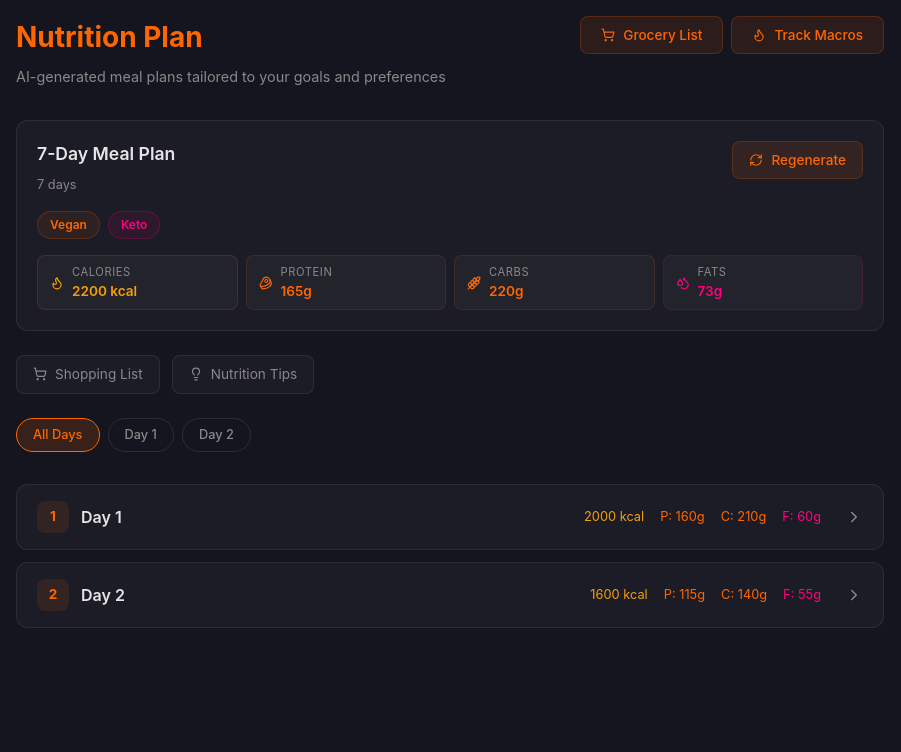
Test case: NutritionPage › toggles shopping list panel
// Click shopping list button
Click the button "Shopping List". click: (88, 374)
box: left=16, top=355, right=160, bottom=394
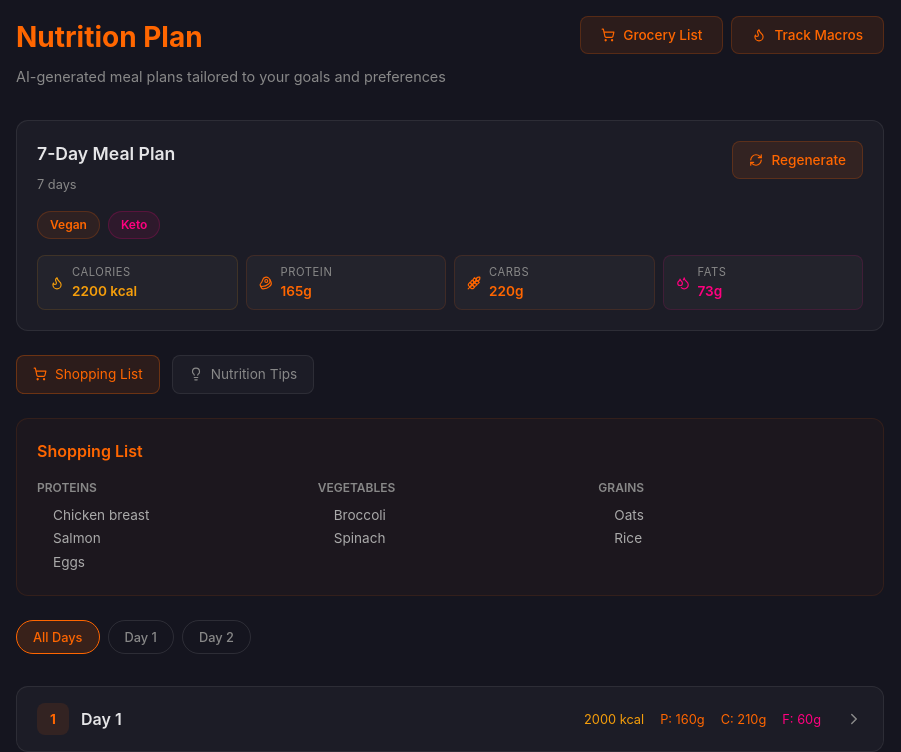
Check: the list item "Chicken breast" is shown, box left=53, top=507, right=150, bottom=523
Check: the list item "Salmon" is shown, box left=53, top=530, right=101, bottom=546
Check: the list item "Broccoli" is shown, box left=334, top=507, right=386, bottom=523
